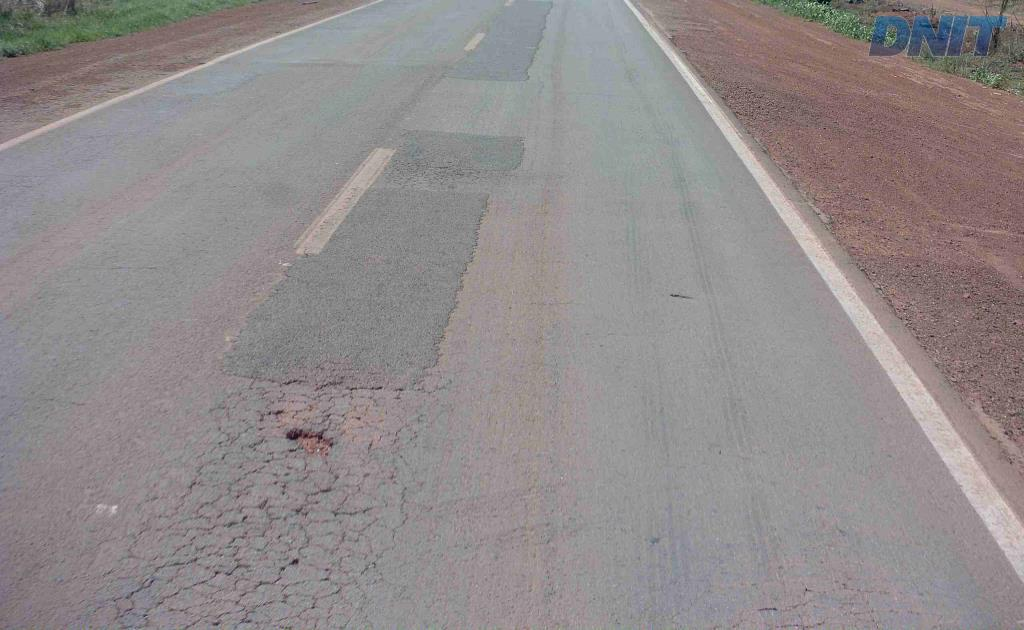crack: (118, 556, 201, 597), (289, 482, 336, 519), (223, 527, 252, 576)
pothole: (279, 422, 337, 455)
